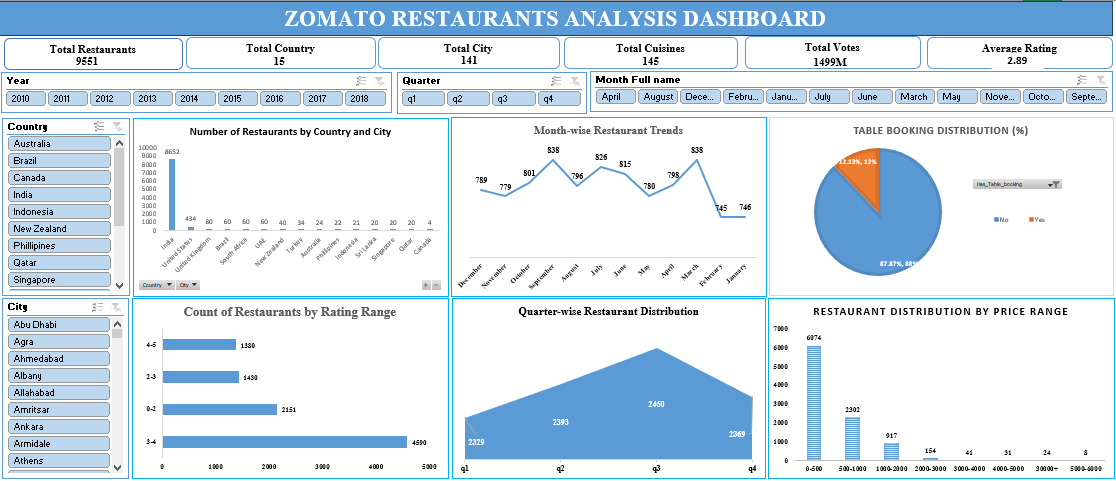

The page's visual inventory and layout, read from the dashboard file:
{"tool":"tableau","page":{"name":"Dashboard","canvas":[1000,1000],"units":"permille","ordinal":0},"visuals":[{"type":"title","box":[6,13.5,988.1,67.6]},{"type":"dashboard-object","box":[884.6,20,100.8,37.5]},{"type":"worksheet","title":"kip","mark":"Automatic","box":[6,81.1,286.2,114]},{"type":"worksheet","title":"kip (2)","mark":"Automatic","box":[292.2,81.1,311.8,114]},{"type":"worksheet","title":"kip (3)","mark":"Automatic","box":[604,81.1,210.2,114]},{"type":"worksheet","title":"Q6","mark":"Automatic","rows":["RestaurantName"],"cols":["Calculation_1753307685272969217"],"box":[814.2,81.1,179.8,472.3]},{"type":"worksheet","title":" Q1","mark":"Multipolygon","box":[6,195.1,286.2,264.4]},{"type":"worksheet","title":"Q3 (2)","mark":"Bar","rows":["Country Name","City"],"cols":["RestaurantID"],"box":[292.2,195.1,311.8,264.4]},{"type":"worksheet","title":"Q5","mark":"Automatic","rows":["RestaurantName"],"cols":["Calculation_1753307685270855680"],"box":[604,195.1,210.2,264.4]},{"type":"worksheet","title":"Q9(2)","mark":"Automatic","rows":["City"],"cols":["RestaurantID"],"box":[6,459.5,286.4,350.3]},{"type":"worksheet","title":"Q9","mark":"Automatic","rows":["Cuisines"],"cols":["RestaurantID"],"box":[292.4,459.5,311.7,243.2]},{"type":"worksheet","title":"Q9(3)","mark":"Automatic","rows":["RestaurantID"],"cols":["Rating (bin)"],"box":[604.1,459.5,210.1,243.2]},{"type":"worksheet","title":"Q7","mark":"Pie","box":[814.2,553.4,179.8,433.1]},{"type":"worksheet","title":"Q4 (2)","mark":"Line","rows":["RestaurantID"],"cols":["Datekey_Opening"],"box":[292.4,702.7,521.8,283.8]},{"type":"worksheet","title":"Q8","mark":"Bar","rows":["Has_Online_delivery"],"cols":["RestaurantName"],"box":[6,809.8,286.4,176.7]}]}

Visuals, with their boxes on the dashboard's canvas, which has no fixed pixel size, in thousandths of its width and height (x1, y1, x2, y2). These are canvas units, not pixel positions in the 1116x481 screenshot, which may show the page scaled, cropped or inside an application window:
title: bbox=(6, 14, 994, 81)
dashboard-object: bbox=(885, 20, 985, 58)
"kip" worksheet: bbox=(6, 81, 292, 195)
"kip (2)" worksheet: bbox=(292, 81, 604, 195)
"kip (3)" worksheet: bbox=(604, 81, 814, 195)
"Q6" worksheet: bbox=(814, 81, 994, 553)
" Q1" worksheet (Multipolygon marks): bbox=(6, 195, 292, 460)
"Q3 (2)" worksheet (Bar marks): bbox=(292, 195, 604, 460)
"Q5" worksheet: bbox=(604, 195, 814, 460)
"Q9(2)" worksheet: bbox=(6, 460, 292, 810)
"Q9" worksheet: bbox=(292, 460, 604, 703)
"Q9(3)" worksheet: bbox=(604, 460, 814, 703)
"Q7" worksheet (Pie marks): bbox=(814, 553, 994, 986)
"Q4 (2)" worksheet (Line marks): bbox=(292, 703, 814, 986)
"Q8" worksheet (Bar marks): bbox=(6, 810, 292, 986)
